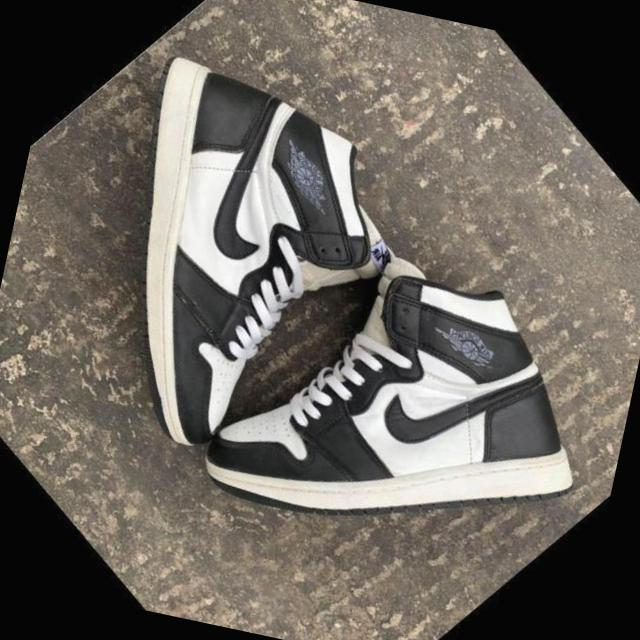nike_fake_jordan: (141, 155, 640, 640), (0, 0, 482, 501)
